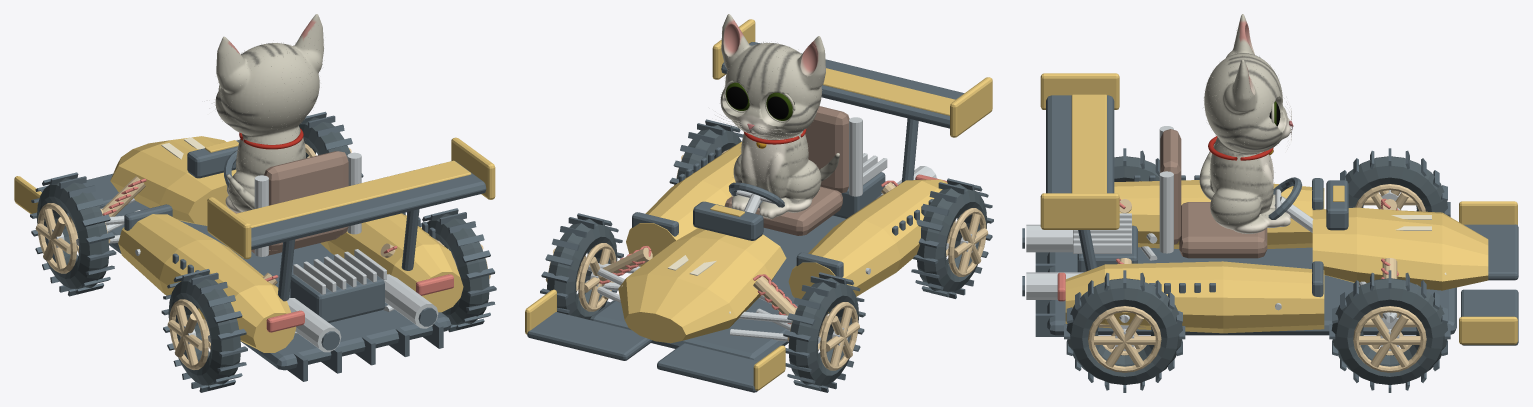
Rendered from silverbelt_kart.glb.
3 renders of one model, left to right at view 1: azimuth 30°, elevation 25°; view 2: azimuth 150°, elevation 25°; view 3: azimuth 270°, elevation 25°, orthographic. The views are drawn at different scales.
Visible parts, largest first — view 1: Continuous feline anatomy, Radiator sidepod, Undertray, Long sculpted nose, Rear aerofoil, Radiator sidepod.001, Rear wing enamel, Profiled racing tyre, Profiled racing tyre.001, Seat back, Profiled racing tyre.003, Engine block (+20 smaller); view 2: Continuous feline anatomy, Long sculpted nose, Radiator sidepod, Undertray, Radiator sidepod.001, Profiled racing tyre, Profiled racing tyre.001, Front wing.001, Rear aerofoil, Profiled racing tyre.002, Front wing, Seat back (+23 smaller); view 3: Continuous feline anatomy, Radiator sidepod.001, Long sculpted nose, Profiled racing tyre.002, Profiled racing tyre.003, Undertray, Radiator sidepod, Rear wing enamel, Bucket seat, Rear aerofoil, Profiled racing tyre, Wing endplate.002 (+19 smaller).
Part boxes in pixels (left/top/right/bottom): Continuous feline anatomy: left=215, top=14, right=323, bottom=212; Radiator sidepod: left=118, top=214, right=296, bottom=352; Undertray: left=108, top=201, right=451, bottom=370; Long sculpted nose: left=110, top=136, right=236, bottom=225; Rear aerofoil: left=251, top=161, right=486, bottom=249; Radiator sidepod.001: left=320, top=213, right=463, bottom=312; Rear wing enamel: left=236, top=160, right=471, bottom=227; Profiled racing tyre: left=36, top=178, right=109, bottom=289; Profiled racing tyre.001: left=168, top=274, right=240, bottom=385; Seat back: left=264, top=151, right=348, bottom=250; Profiled racing tyre.003: left=427, top=214, right=489, bottom=325; Engine block: left=290, top=274, right=384, bottom=322; Continuous feline anatomy: left=720, top=14, right=825, bottom=219; Long sculpted nose: left=618, top=228, right=786, bottom=343; Radiator sidepod: left=788, top=179, right=947, bottom=313; Undertray: left=590, top=215, right=845, bottom=360; Radiator sidepod.001: left=626, top=142, right=741, bottom=266; Profiled racing tyre: left=788, top=277, right=858, bottom=385; Profiled racing tyre.001: left=917, top=184, right=987, bottom=292; Front wing.001: left=527, top=312, right=652, bottom=360; Rear aerofoil: left=721, top=42, right=964, bottom=128; Profiled racing tyre.002: left=547, top=219, right=617, bottom=319; Front wing: left=657, top=343, right=758, bottom=392; Seat back: left=805, top=106, right=849, bottom=193; Continuous feline anatomy: left=1204, top=14, right=1290, bottom=233; Radiator sidepod.001: left=1065, top=261, right=1324, bottom=333; Long sculpted nose: left=1312, top=207, right=1488, bottom=290; Profiled racing tyre.002: left=1331, top=278, right=1447, bottom=384; Profiled racing tyre.003: left=1066, top=278, right=1182, bottom=384; Undertray: left=1047, top=247, right=1456, bottom=335; Radiator sidepod: left=1114, top=180, right=1324, bottom=248; Rear wing enamel: left=1071, top=94, right=1106, bottom=193; Bucket seat: left=1179, top=202, right=1267, bottom=258; Rear aerofoil: left=1046, top=95, right=1114, bottom=193; Profiled racing tyre: left=1345, top=156, right=1447, bottom=213; Wing endplate.002: left=1040, top=193, right=1119, bottom=229.
Size of the model in its own units: 2.59 by 2.43 by 3.78.
Materials: 16 (2 with a texture image).
